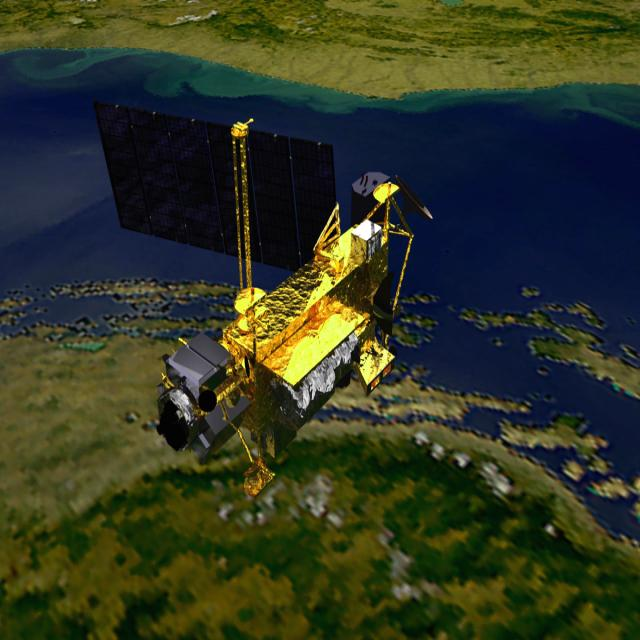medium_debris: (86, 81, 440, 512)
